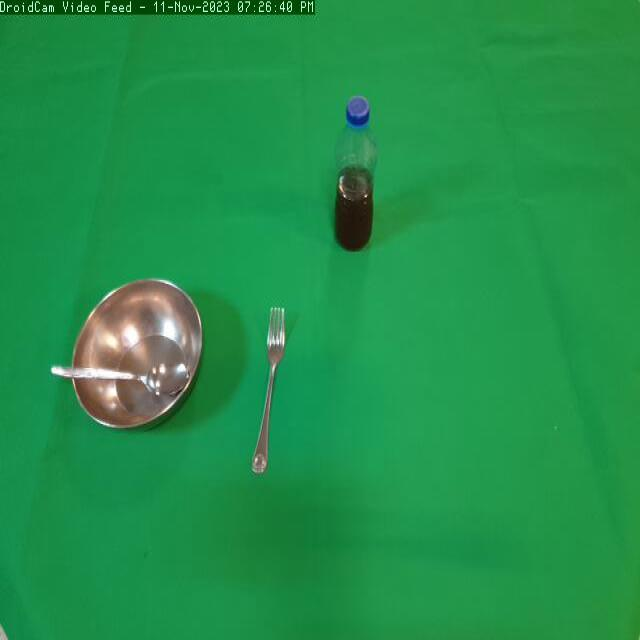bowl: (68, 274, 209, 435)
fork: (244, 290, 308, 487)
fullbottle: (328, 87, 386, 263)
spoon: (45, 351, 195, 400)
